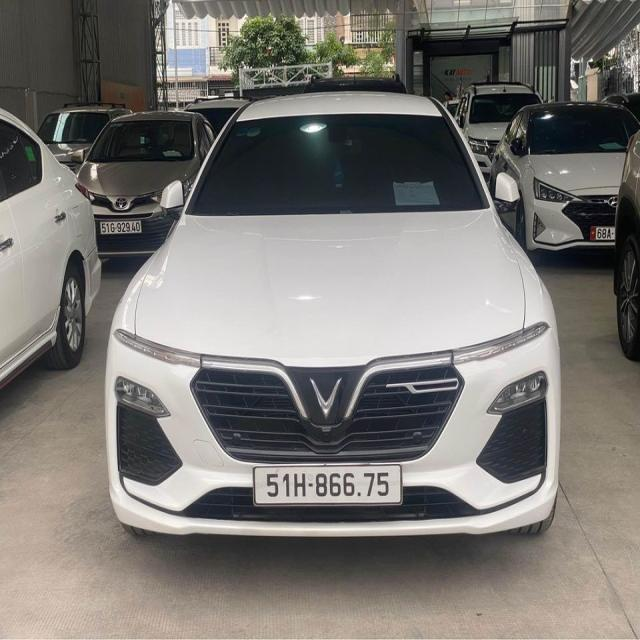car: (107, 82, 560, 561), (0, 86, 103, 463), (62, 102, 273, 268), (484, 96, 637, 267)
plate: (245, 461, 406, 509), (93, 209, 147, 241), (585, 221, 618, 247)
